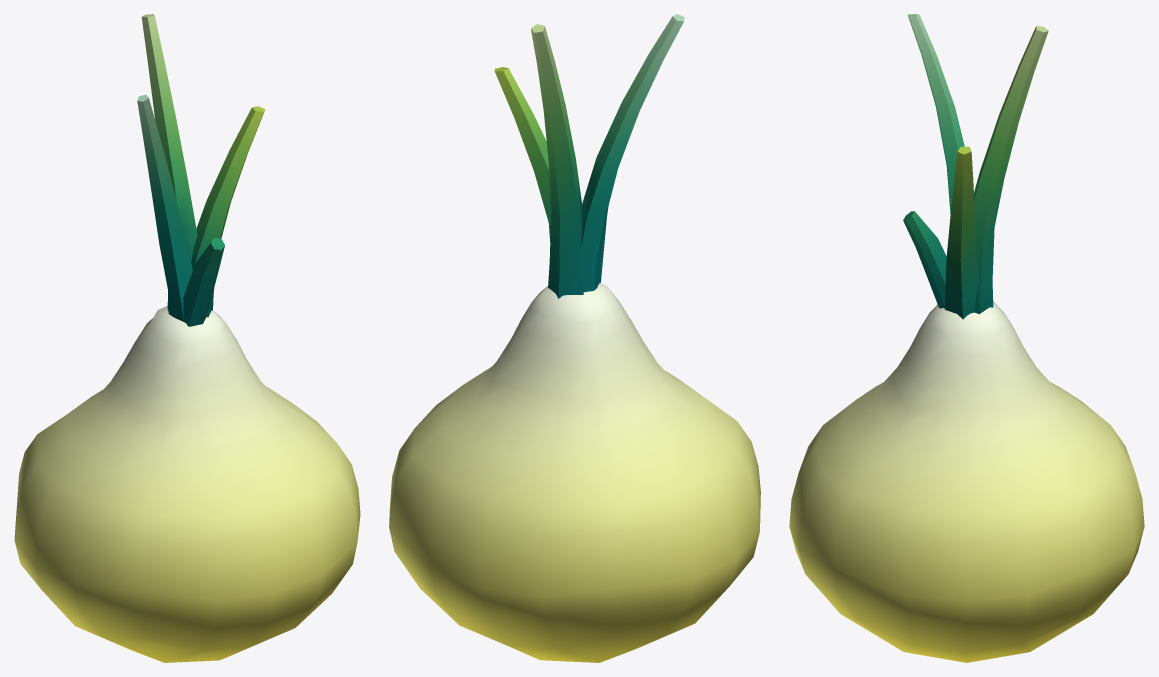
The model's file is onion_005.fbx.
The picture shows the model from 3 angles, left to right: view 1: azimuth 30°, elevation 25°; view 2: azimuth 150°, elevation 25°; view 3: azimuth 270°, elevation 25°; orthographic projection. The views are drawn at different scales.
Parts seen in each view (by area): view 1: onion_005; view 2: onion_005; view 3: onion_005.
Part boxes in pixels (<box>): onion_005: <box>14,14,360,662</box>; onion_005: <box>389,14,760,662</box>; onion_005: <box>789,14,1144,662</box>.
Bounding box in the file's own units: 7.9 × 15.15 × 7.9.
